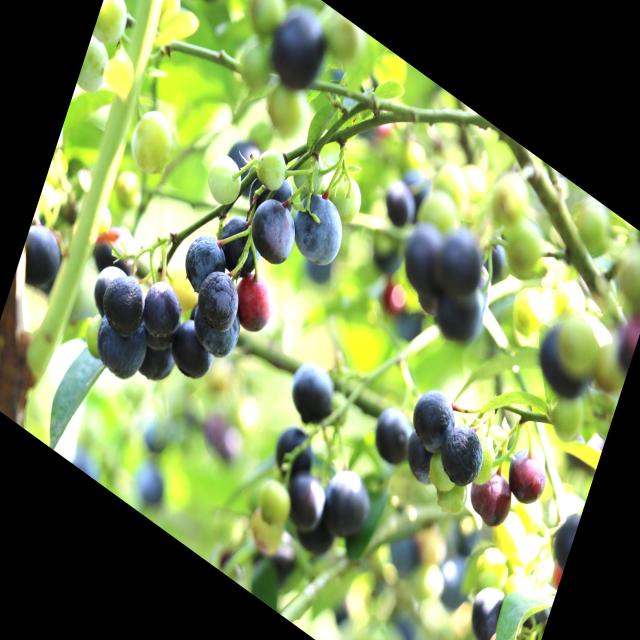blueberry: (286, 175, 360, 285), (264, 0, 333, 100), (88, 297, 152, 392), (317, 457, 379, 550), (245, 188, 305, 278), (404, 376, 463, 464), (434, 414, 492, 500), (431, 216, 489, 300), (287, 352, 337, 433), (367, 394, 418, 472), (193, 262, 244, 340), (189, 294, 242, 368), (100, 258, 149, 336), (284, 465, 334, 538), (168, 310, 217, 384), (18, 218, 67, 290), (373, 172, 419, 242), (136, 323, 180, 393), (182, 230, 226, 299), (144, 273, 188, 340)
blueberry-halfripe: (227, 264, 281, 344), (499, 439, 554, 516), (463, 460, 518, 536), (476, 620, 530, 640)
blueberry-unripe: (122, 97, 178, 184), (259, 74, 314, 153), (549, 303, 603, 382), (322, 162, 372, 233), (502, 207, 549, 278), (202, 145, 248, 213), (506, 278, 550, 346), (486, 166, 531, 232), (75, 34, 114, 104), (286, 140, 328, 202), (90, 0, 134, 59), (416, 182, 458, 242), (253, 474, 294, 530), (253, 140, 292, 196), (435, 470, 471, 523), (424, 451, 458, 497), (148, 0, 184, 34)
